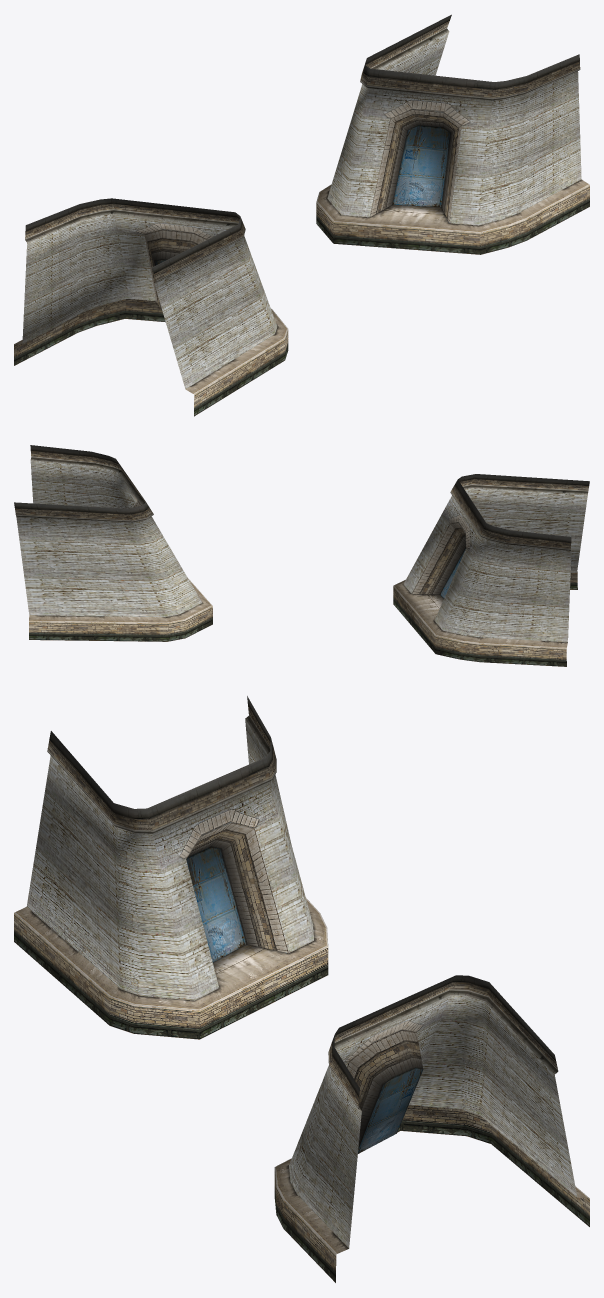
Rendered from BridgeSupport_FBX.fbx.
3 renders of one model, top to bottom at view 1: azimuth 30°, elevation 25°; view 2: azimuth 150°, elevation 25°; view 3: azimuth 270°, elevation 25°, orthographic. The views are drawn at different scales.
Parts seen in each view (by area): view 1: Base; view 2: Base; view 3: Base.
Boxes of the visible parts, box(x1,y1,x2,y2) form: Base: box(14, 14, 589, 416); Base: box(14, 445, 589, 666); Base: box(14, 696, 589, 1282).
Size of the model in its own units: 111 by 26.78 by 69.36.
